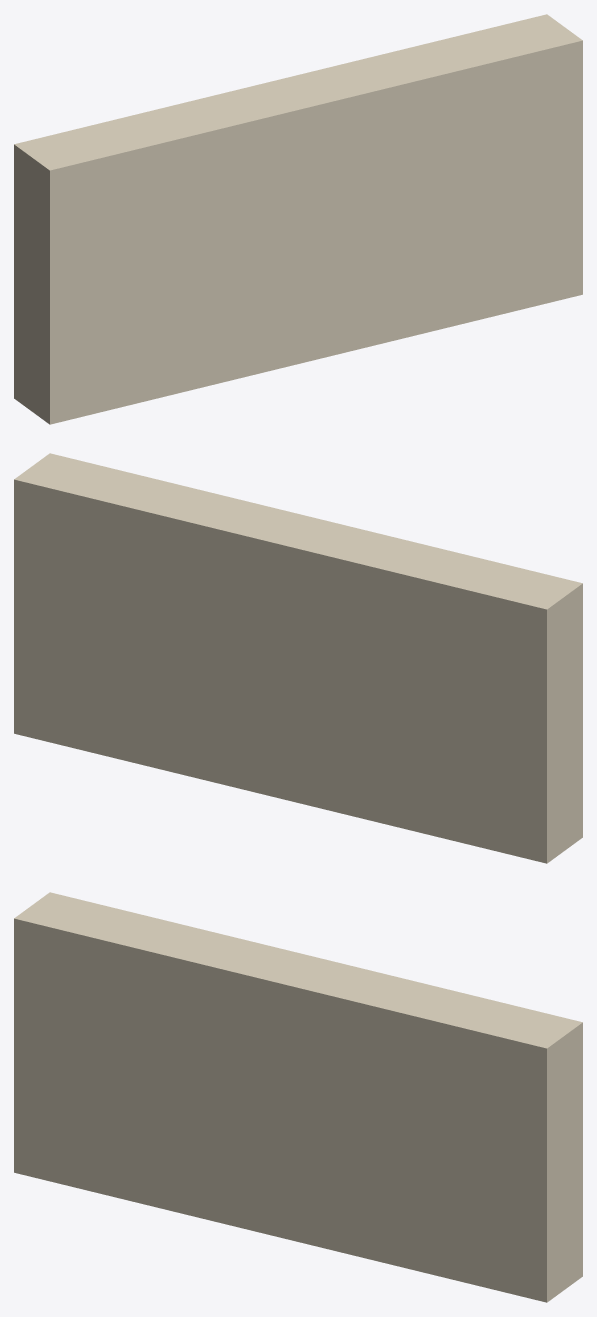
The picture shows the model from 3 angles, top to bottom: view 1: azimuth 30°, elevation 25°; view 2: azimuth 150°, elevation 25°; view 3: azimuth 330°, elevation 25°; orthographic projection.
Visible parts, largest first — view 1: A-GF-WINDOW-016-SILL; view 2: A-GF-WINDOW-016-SILL; view 3: A-GF-WINDOW-016-SILL.
Part boxes in pixels (left/top/right/bottom): A-GF-WINDOW-016-SILL: left=14, top=14, right=582, bottom=424; A-GF-WINDOW-016-SILL: left=14, top=453, right=582, bottom=863; A-GF-WINDOW-016-SILL: left=14, top=892, right=582, bottom=1302.
Bounding box in the file's own units: 1.8 × 0.82 × 0.21.
